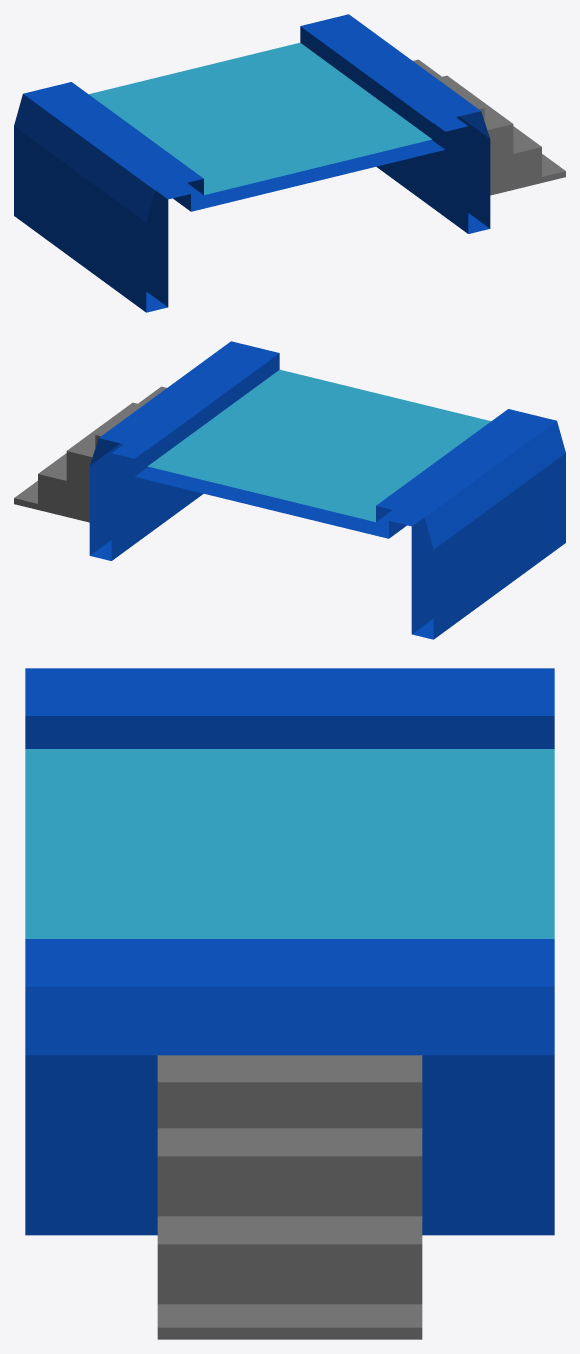
File: Aqua02.fbx
The picture shows the model from 3 angles, top to bottom: view 1: azimuth 30°, elevation 25°; view 2: azimuth 150°, elevation 25°; view 3: azimuth 270°, elevation 25°; orthographic projection. The views are drawn at different scales.
Parts seen in each view (by area): view 1: Aqua02; view 2: Aqua02; view 3: Aqua02.
Part boxes in pixels (box(x1,y1,x2,y2)): Aqua02: box(14, 14, 565, 312); Aqua02: box(14, 341, 565, 639); Aqua02: box(25, 668, 554, 1339).
Bounding box in the file's own units: 790 × 200 × 400.
